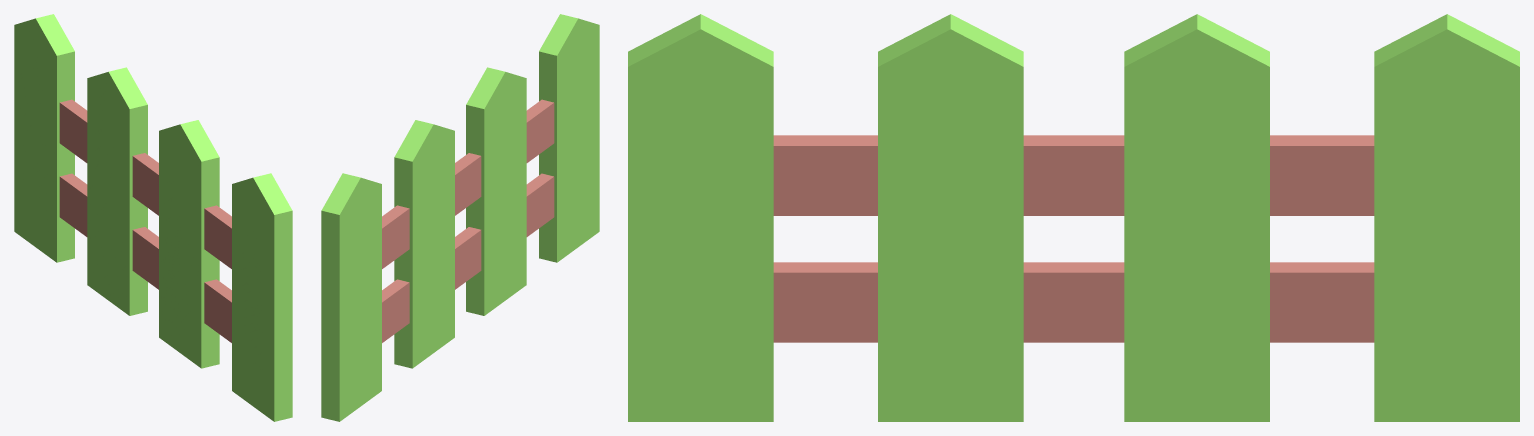
Rendered from fance.fbx.
3 renders of one model, left to right at view 1: azimuth 30°, elevation 25°; view 2: azimuth 150°, elevation 25°; view 3: azimuth 270°, elevation 25°, orthographic. The views are drawn at different scales.
Parts seen in each view (by area): view 1: 큐브, 큐브.002; view 2: 큐브, 큐브.002; view 3: 큐브, 큐브.002.
Boxes of the visible parts, x1,y1,x2,y2 form: 큐브: (14, 14, 292, 421); 큐브.002: (59, 99, 231, 342); 큐브: (321, 14, 599, 421); 큐브.002: (382, 99, 554, 342); 큐브: (628, 14, 1519, 421); 큐브.002: (773, 135, 1374, 342).
Bounding box in the file's own units: 14.93 × 179 × 368.
